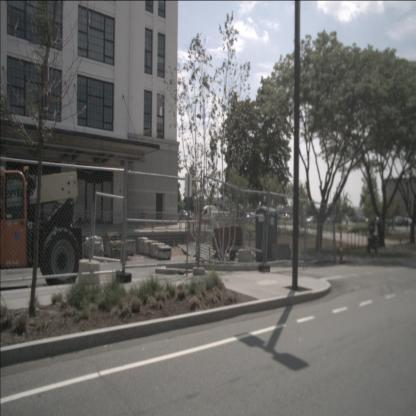cone: (337, 227, 345, 264), (144, 214, 148, 226)
